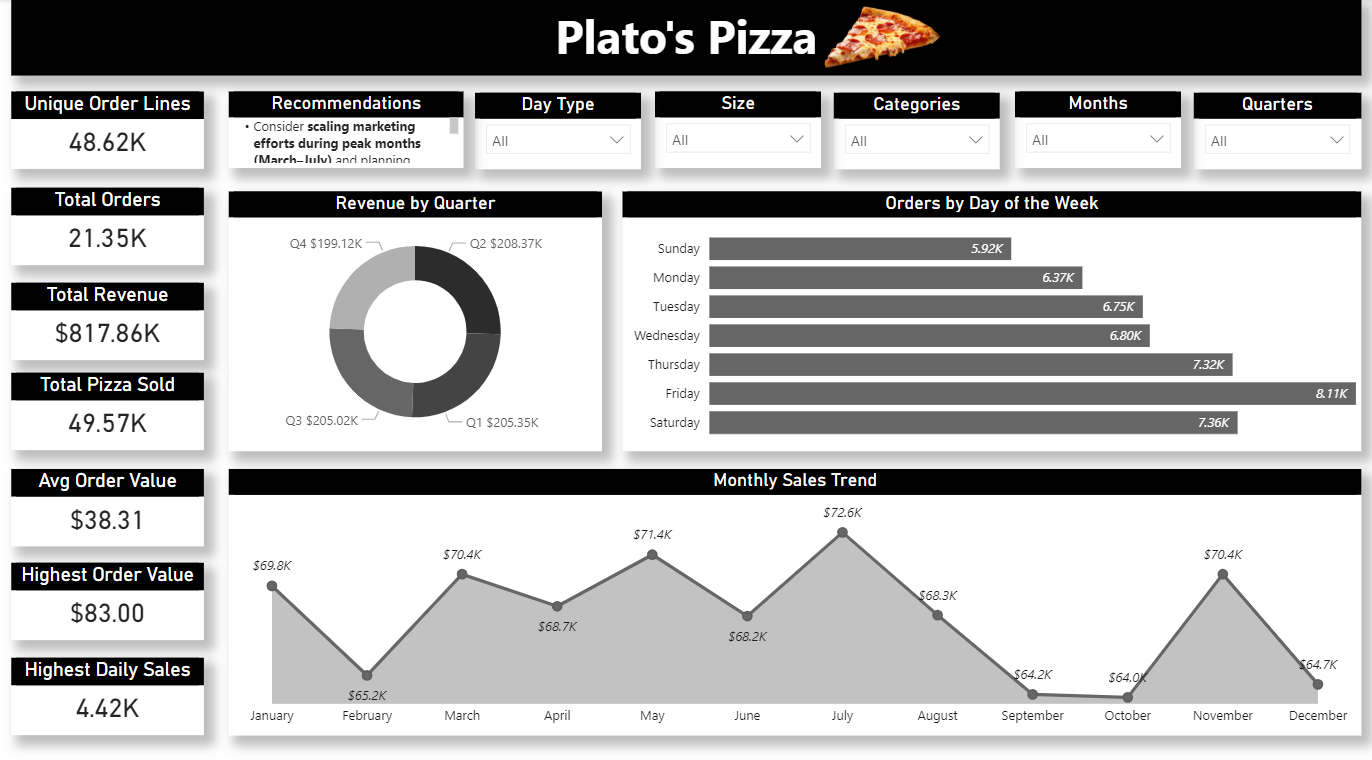

What the dashboard file says about the page in this screenshot:
{"tool":"powerbi","page":{"name":"Page 1","canvas":[1280,720],"ordinal":0},"visuals":[{"type":"textbox","box":[10.5,0,1255.8,70.9],"z":0},{"type":"card","title":"Total Orders","fields":{"Values":["pizza.Total Orders"]},"box":[10.5,175.6,179.1,72.1],"z":1000},{"type":"card","title":"Total Revenue","fields":{"Values":["pizza.Total Revenue"]},"box":[10.5,264,179.1,72.1],"z":2000},{"type":"card","title":"Total Pizza Sold","fields":{"Values":["pizza.Total Quantity"]},"box":[10.5,347.7,179.1,72.1],"z":3000},{"type":"card","title":"Avg Order Value","fields":{"Values":["pizza.Avg Order Value"]},"box":[10.5,437.2,179.1,72.1],"z":4000},{"type":"card","title":"Highest Order Value","fields":{"Values":["Max(pizza.total_price)"]},"box":[10.5,524.4,179.1,72.1],"z":5000},{"type":"card","title":"Highest Daily Sales","fields":{"Values":["pizza.Max Daily Sales"]},"box":[10.5,612.8,179.1,72.1],"z":6000},{"type":"card","title":"Unique Order Lines","fields":{"Values":["Count(pizza.order_details_id)"]},"box":[10.5,86,179.1,72.1],"z":7000},{"type":"lineChart","title":"Monthly Sales Trend","fields":{"Category":["pizza.Month_Name"],"Y":["pizza.Rev per month"]},"box":[212.6,437.6,1053.8,247.6],"z":8000},{"type":"clusteredBarChart","title":"Orders by Day of the Week","fields":{"Category":["pizza.Day_Name"],"Y":["CountNonNull(pizza.order_id)"]},"box":[578.9,178.6,687.4,242],"z":9000},{"type":"slicer","title":"Quarters","fields":{"Values":["pizza.Quarter_Name"]},"box":[1110.5,87.2,155.8,70.9],"z":10000},{"type":"slicer","title":"Months","fields":{"Values":["pizza.Month_Name"]},"box":[944.2,86,154.7,70.9],"z":11000},{"type":"slicer","title":"Categories","fields":{"Values":["pizza.Month_Name"]},"box":[775.6,87.2,154.7,70.9],"z":12000},{"type":"donutChart","title":"Revenue by Quarter","fields":{"Category":["pizza.Quarter_Name"],"Y":["pizza.Total Revenue"]},"box":[212.6,178.6,347.1,242],"z":13000},{"type":"slicer","title":"Size","fields":{"Values":["pizza.pizza_size"]},"box":[609.3,86,154.7,70.9],"z":14000},{"type":"slicer","title":"Day Type","fields":{"Values":["pizza.Day Type"]},"box":[441.5,87.1,154.5,71.1],"z":15000},{"type":"image","box":[739.5,0,162.8,71.2],"z":16000},{"type":"textbox","title":"Recommendations","box":[212.8,86,218.6,70.9],"z":16001}]}

Visuals, with their boxes in screenshot pixels (x1, y1, x2, y2), scaled from the page's 1280x720 canvas onto the 1372x760 screenshot:
textbox: 11/0/1357/75
"Total Orders" card: 11/185/203/261
"Total Revenue" card: 11/279/203/355
"Total Pizza Sold" card: 11/367/203/443
"Avg Order Value" card: 11/461/203/538
"Highest Order Value" card: 11/554/203/630
"Highest Daily Sales" card: 11/647/203/723
"Unique Order Lines" card: 11/91/203/167
"Monthly Sales Trend" lineChart: 228/462/1357/723
"Orders by Day of the Week" clusteredBarChart: 621/189/1357/444
"Quarters" slicer: 1190/92/1357/167
"Months" slicer: 1012/91/1178/166
"Categories" slicer: 831/92/997/167
"Revenue by Quarter" donutChart: 228/189/600/444
"Size" slicer: 653/91/819/166
"Day Type" slicer: 473/92/639/167
image: 793/0/967/75
"Recommendations" textbox: 228/91/462/166
